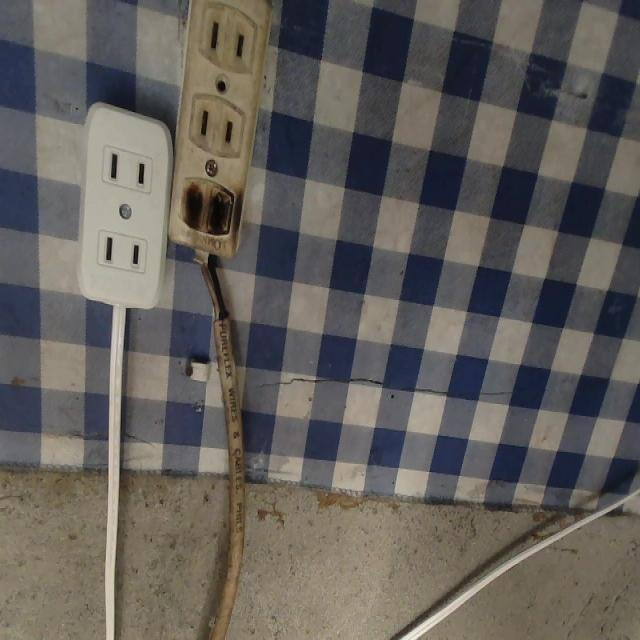-: (174, 167, 249, 253)
